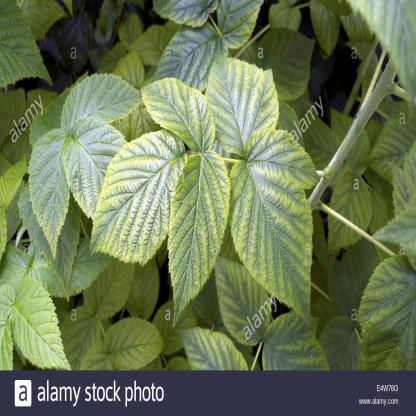raspberry leaf: (230, 154, 318, 331), (87, 126, 192, 272), (164, 149, 229, 321), (201, 50, 281, 158), (65, 117, 142, 225), (28, 128, 70, 256), (139, 84, 214, 155), (249, 128, 322, 200), (57, 72, 144, 131)
